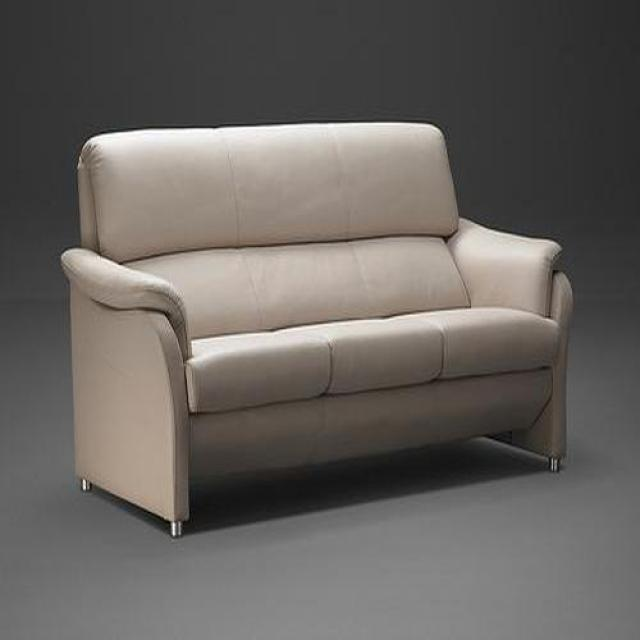sofa: (60, 123, 575, 539)
